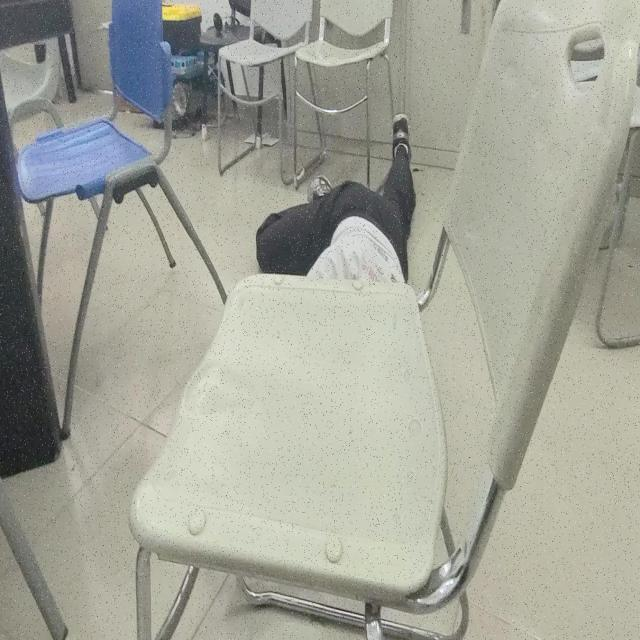fall: (248, 109, 414, 282)
